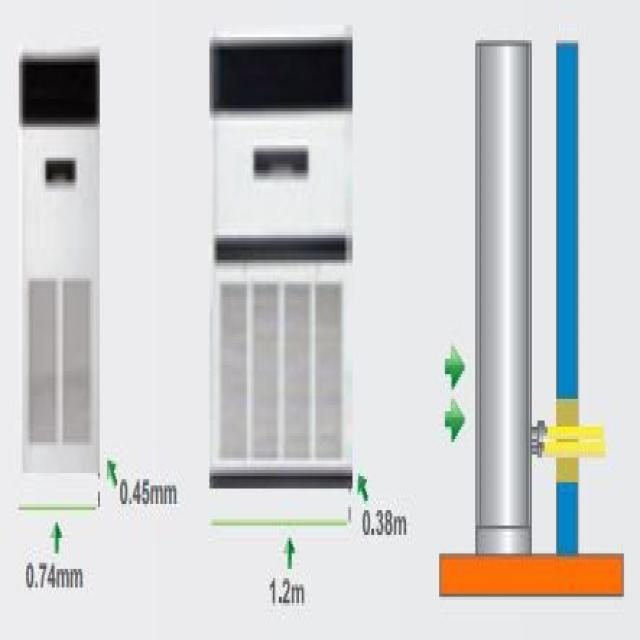appliances: (209, 34, 350, 479), (20, 56, 98, 470)
